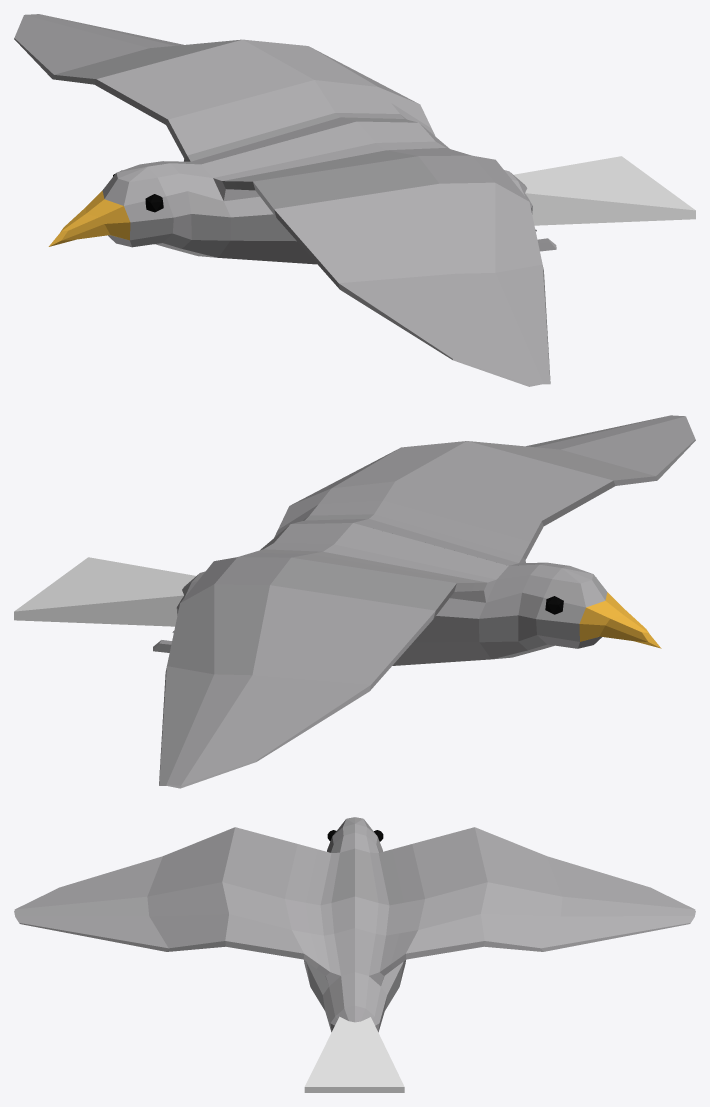
Rendered from gull.fbx.
The picture shows the model from 3 angles, top to bottom: view 1: azimuth 30°, elevation 25°; view 2: azimuth 150°, elevation 25°; view 3: azimuth 270°, elevation 25°; orthographic projection. The views are drawn at different scales.
Parts seen in each view (by area): view 1: head, Cube.001, beak; view 2: head, Cube.001, beak; view 3: head, Cube.001.
Boxes of the visible parts, <box> form: head: <box>14,14,556,386</box>; Cube.001: <box>513,156,695,225</box>; beak: <box>48,190,130,246</box>; head: <box>153,415,695,788</box>; Cube.001: <box>14,557,195,626</box>; beak: <box>579,592,661,648</box>; head: <box>14,817,695,1032</box>; Cube.001: <box>304,1016,404,1092</box>.
Size of the model in its own units: 951 by 274 by 1366.
